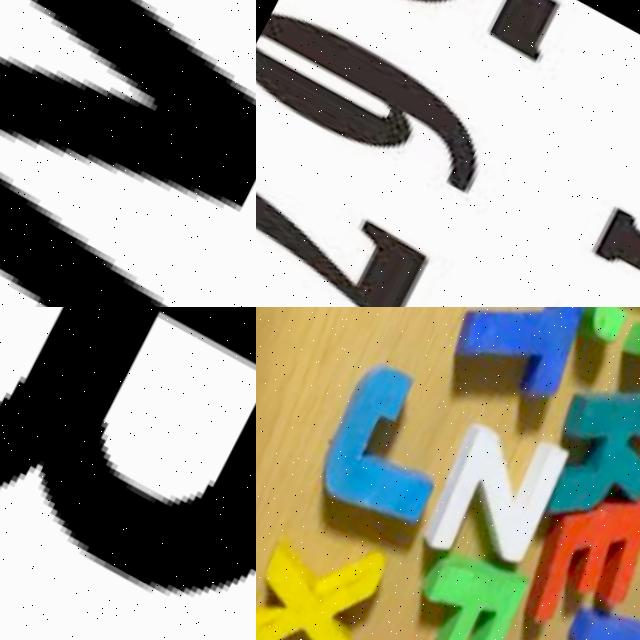5: (303, 0, 569, 66)
6: (256, 0, 515, 208)
7: (256, 129, 453, 307)
E: (500, 448, 640, 640)
F: (393, 522, 542, 640)
J: (309, 351, 476, 546)
K: (528, 350, 640, 534)
N: (525, 567, 640, 640)
T: (437, 307, 612, 417)
W: (0, 0, 256, 307)
X: (256, 498, 402, 640)
Z: (407, 396, 575, 598)
